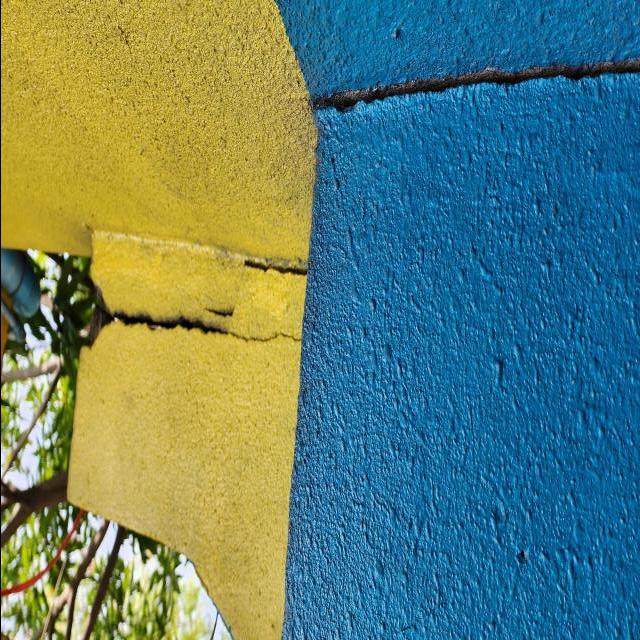SurfaceCrack: (1, 224, 286, 637), (312, 16, 640, 142)
